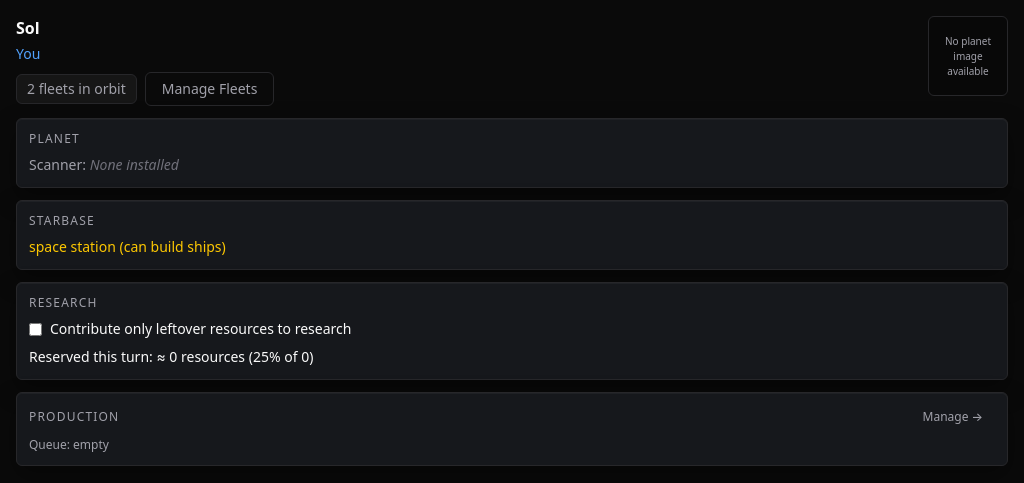
Scenario: PlanetDetail › shows the fleets list and ship counts for multiple fleets after opening the fleets-in-orbit view
Click the button "2 fleets in orbit" at {"x": 76, "y": 89}, box [16, 74, 137, 104]
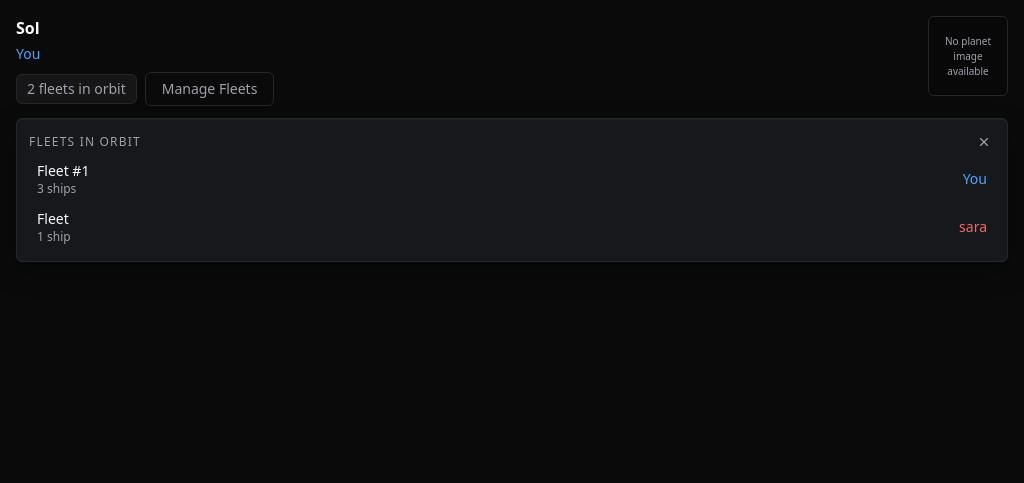
Now the text "Fleets in Orbit" is shown, box [29, 134, 141, 150]
Now the text "Fleet #1" is shown, box [37, 161, 89, 181]
Now the text "3 ships" is shown, box [37, 180, 76, 197]
